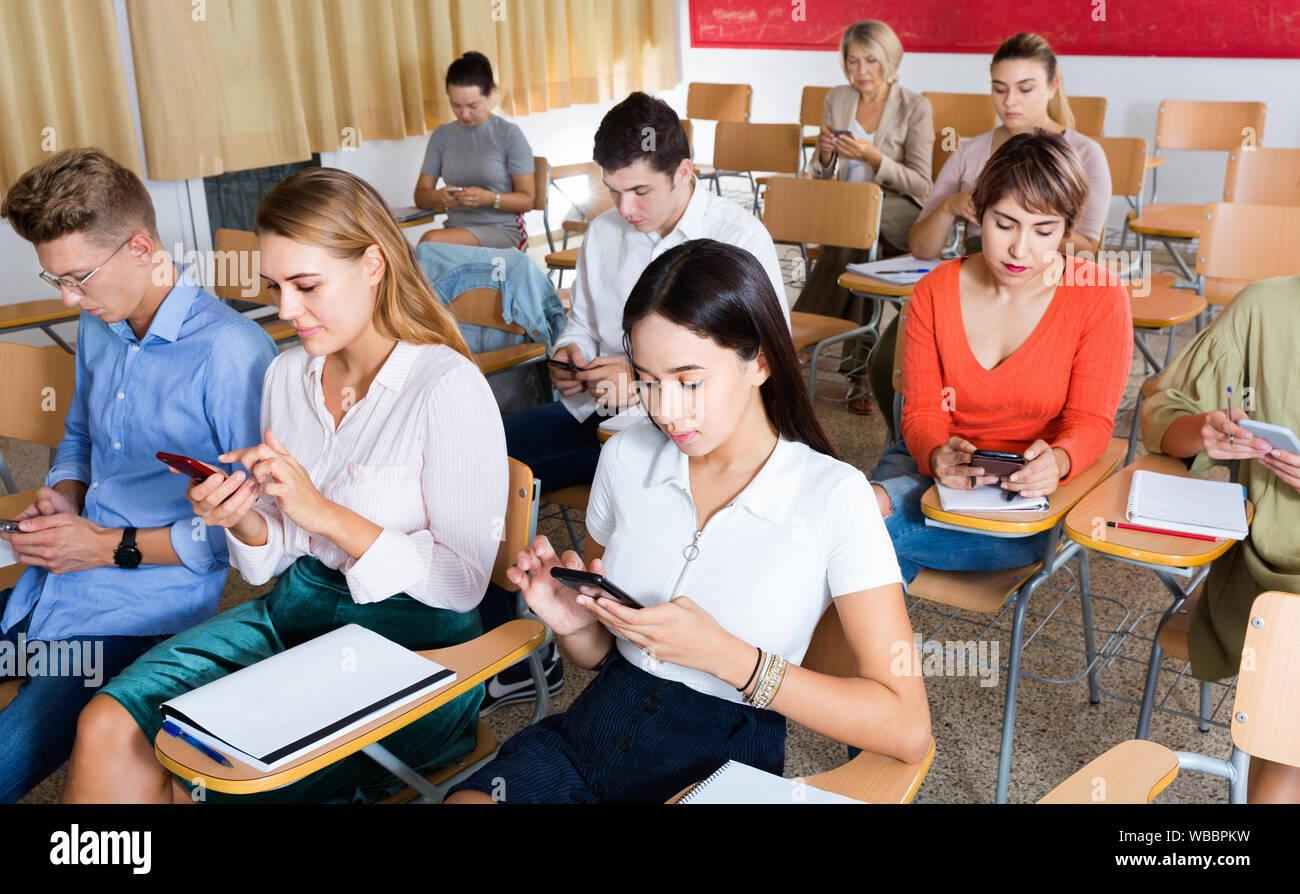phone: (516, 247, 933, 759), (163, 161, 479, 652), (0, 152, 215, 581), (898, 128, 1118, 484), (544, 100, 766, 403), (807, 16, 935, 206), (417, 53, 539, 231)
